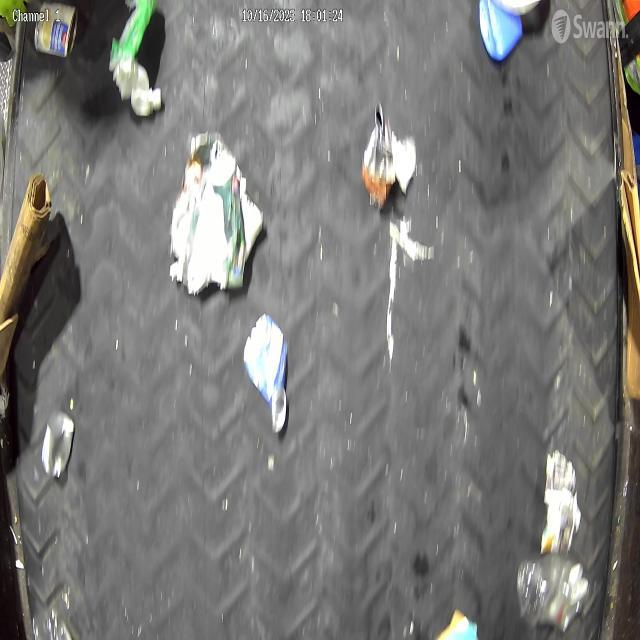can: (362, 102, 417, 208), (34, 1, 78, 58)
